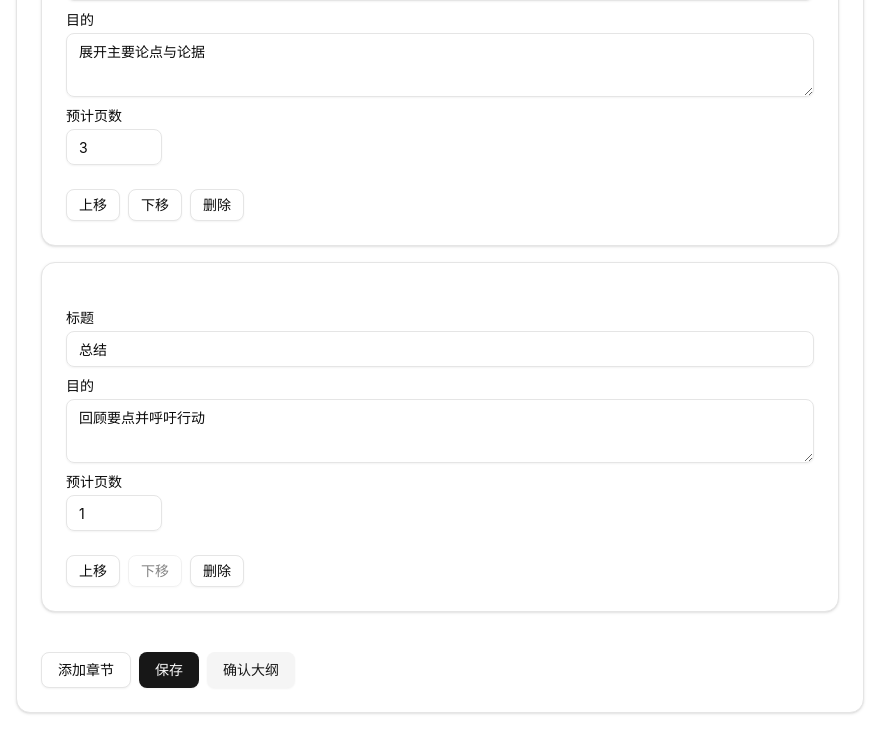
outline page — confirm reveals the next-step CTA (derived from confirmedByUser) › shows the generate-slide-plans CTA only after a successful confirm
(page scrolled)
Expected: the button "生成幻灯片规划" is not shown
Click the button "确认大纲" at (251, 670), box [207,652,295,688]
(page scrolled)
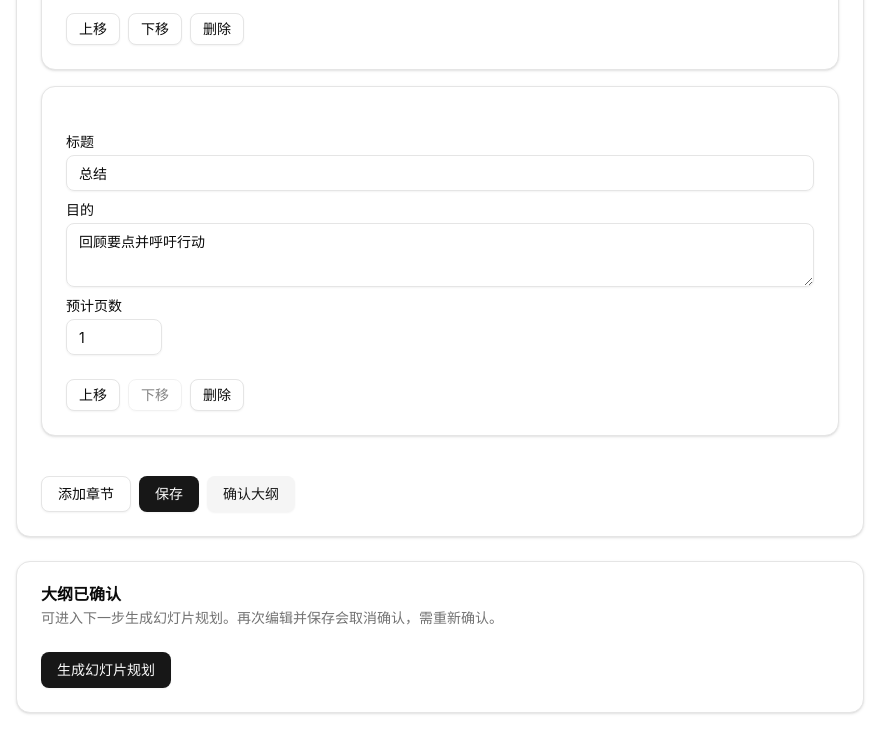
Result: the button "生成幻灯片规划" is shown at [41,652,171,688]
